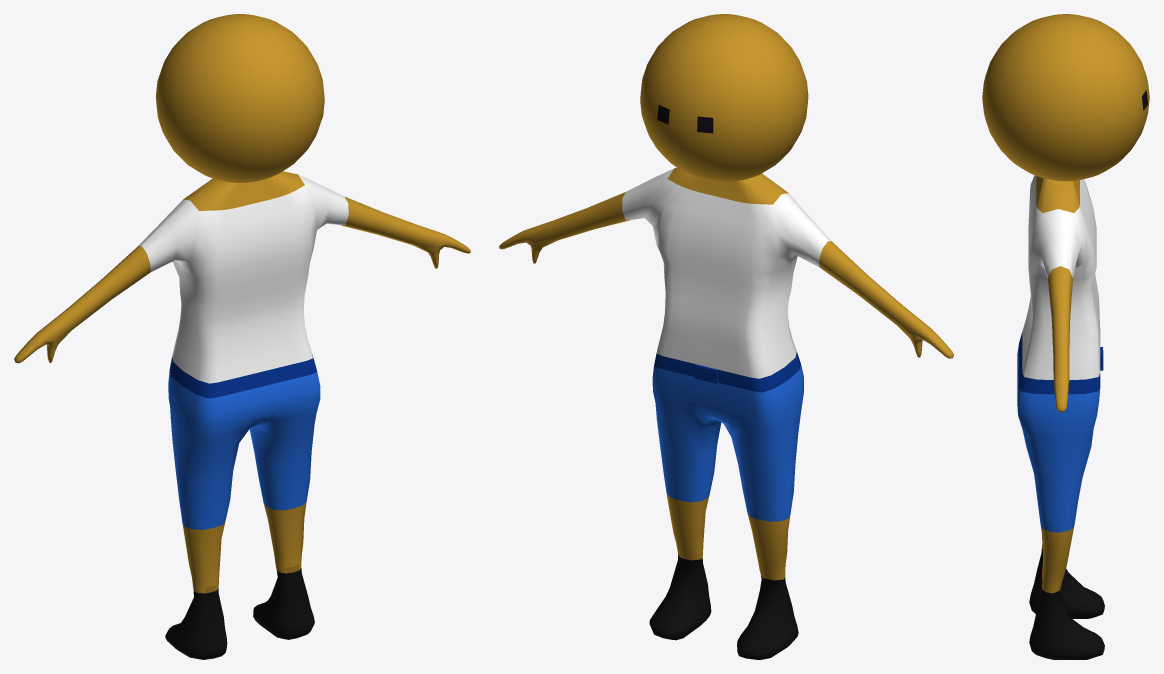
File: player.fbx
The picture shows the model from 3 angles, left to right: view 1: azimuth 30°, elevation 25°; view 2: azimuth 150°, elevation 25°; view 3: azimuth 270°, elevation 25°; orthographic projection.
Visible parts, largest first — view 1: Cube, Sphere; view 2: Cube, Sphere; view 3: Cube, Sphere.
Part boxes in pixels (x1,y1,x2,y2): Cube: (14,171,470,659); Sphere: (156,14,324,182); Cube: (499,167,953,659); Sphere: (640,14,808,182); Cube: (1017,175,1104,659); Sphere: (982,14,1149,181).
Size of the model in its own units: 86.42 by 113 by 27.85.
